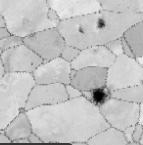good_void: (83, 79, 113, 113), (25, 29, 37, 42), (94, 18, 106, 30), (16, 105, 28, 116), (78, 25, 85, 34), (29, 60, 35, 68)
